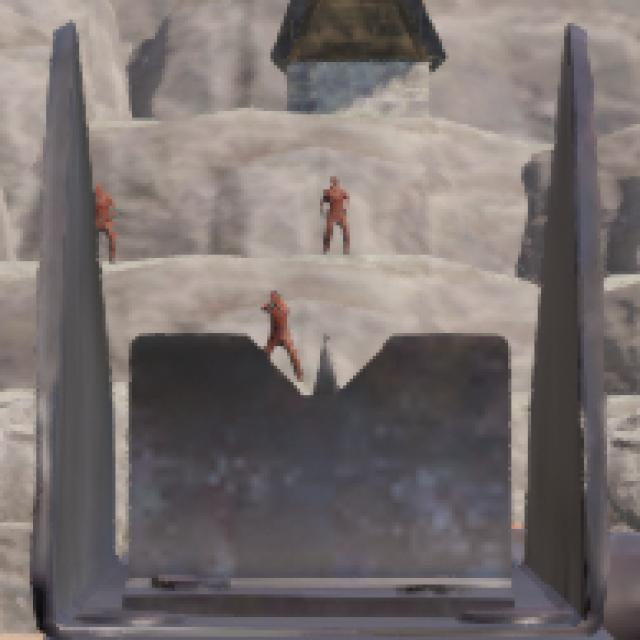Player: (262, 290, 302, 380), (321, 178, 351, 255), (95, 182, 116, 265)
